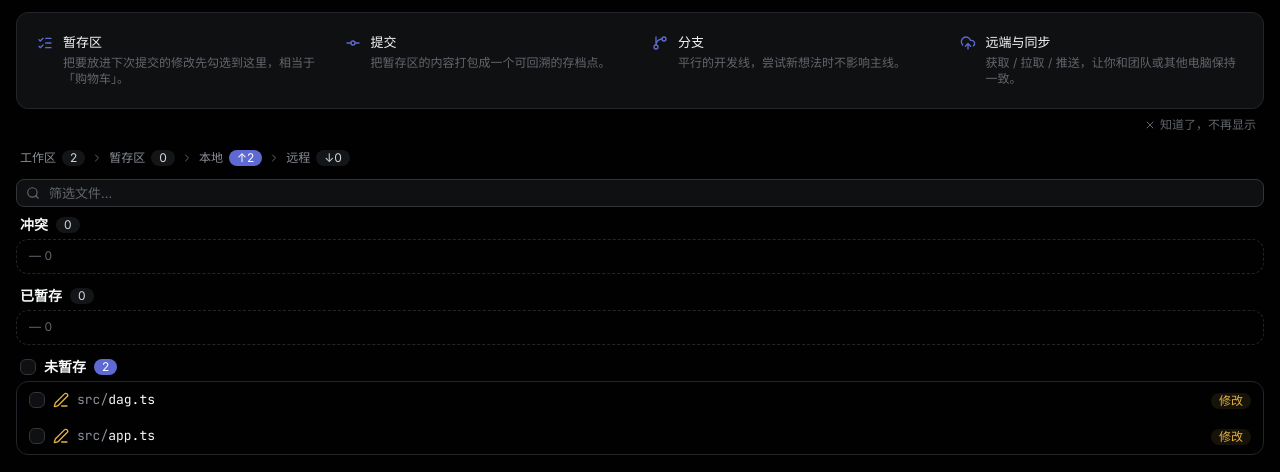
Test: ChangesPage › filters rows by query
Type "dag" into the field with test id "changes-filter" at {"x": 640, "y": 193}, box [16,179,1264,207]
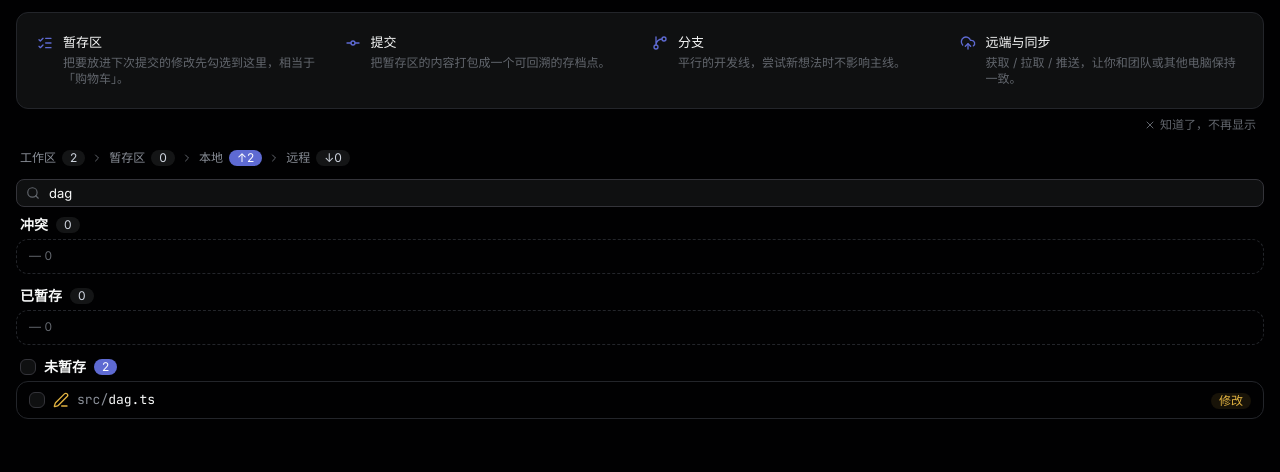
Expected: the element showing "未暂存 2 src/dag.ts 修改" is shown, [16,357,1264,419]
Expected: the element showing "未暂存 2 src/dag.ts 修改" no longer shows "app.ts", [16,357,1264,419]
